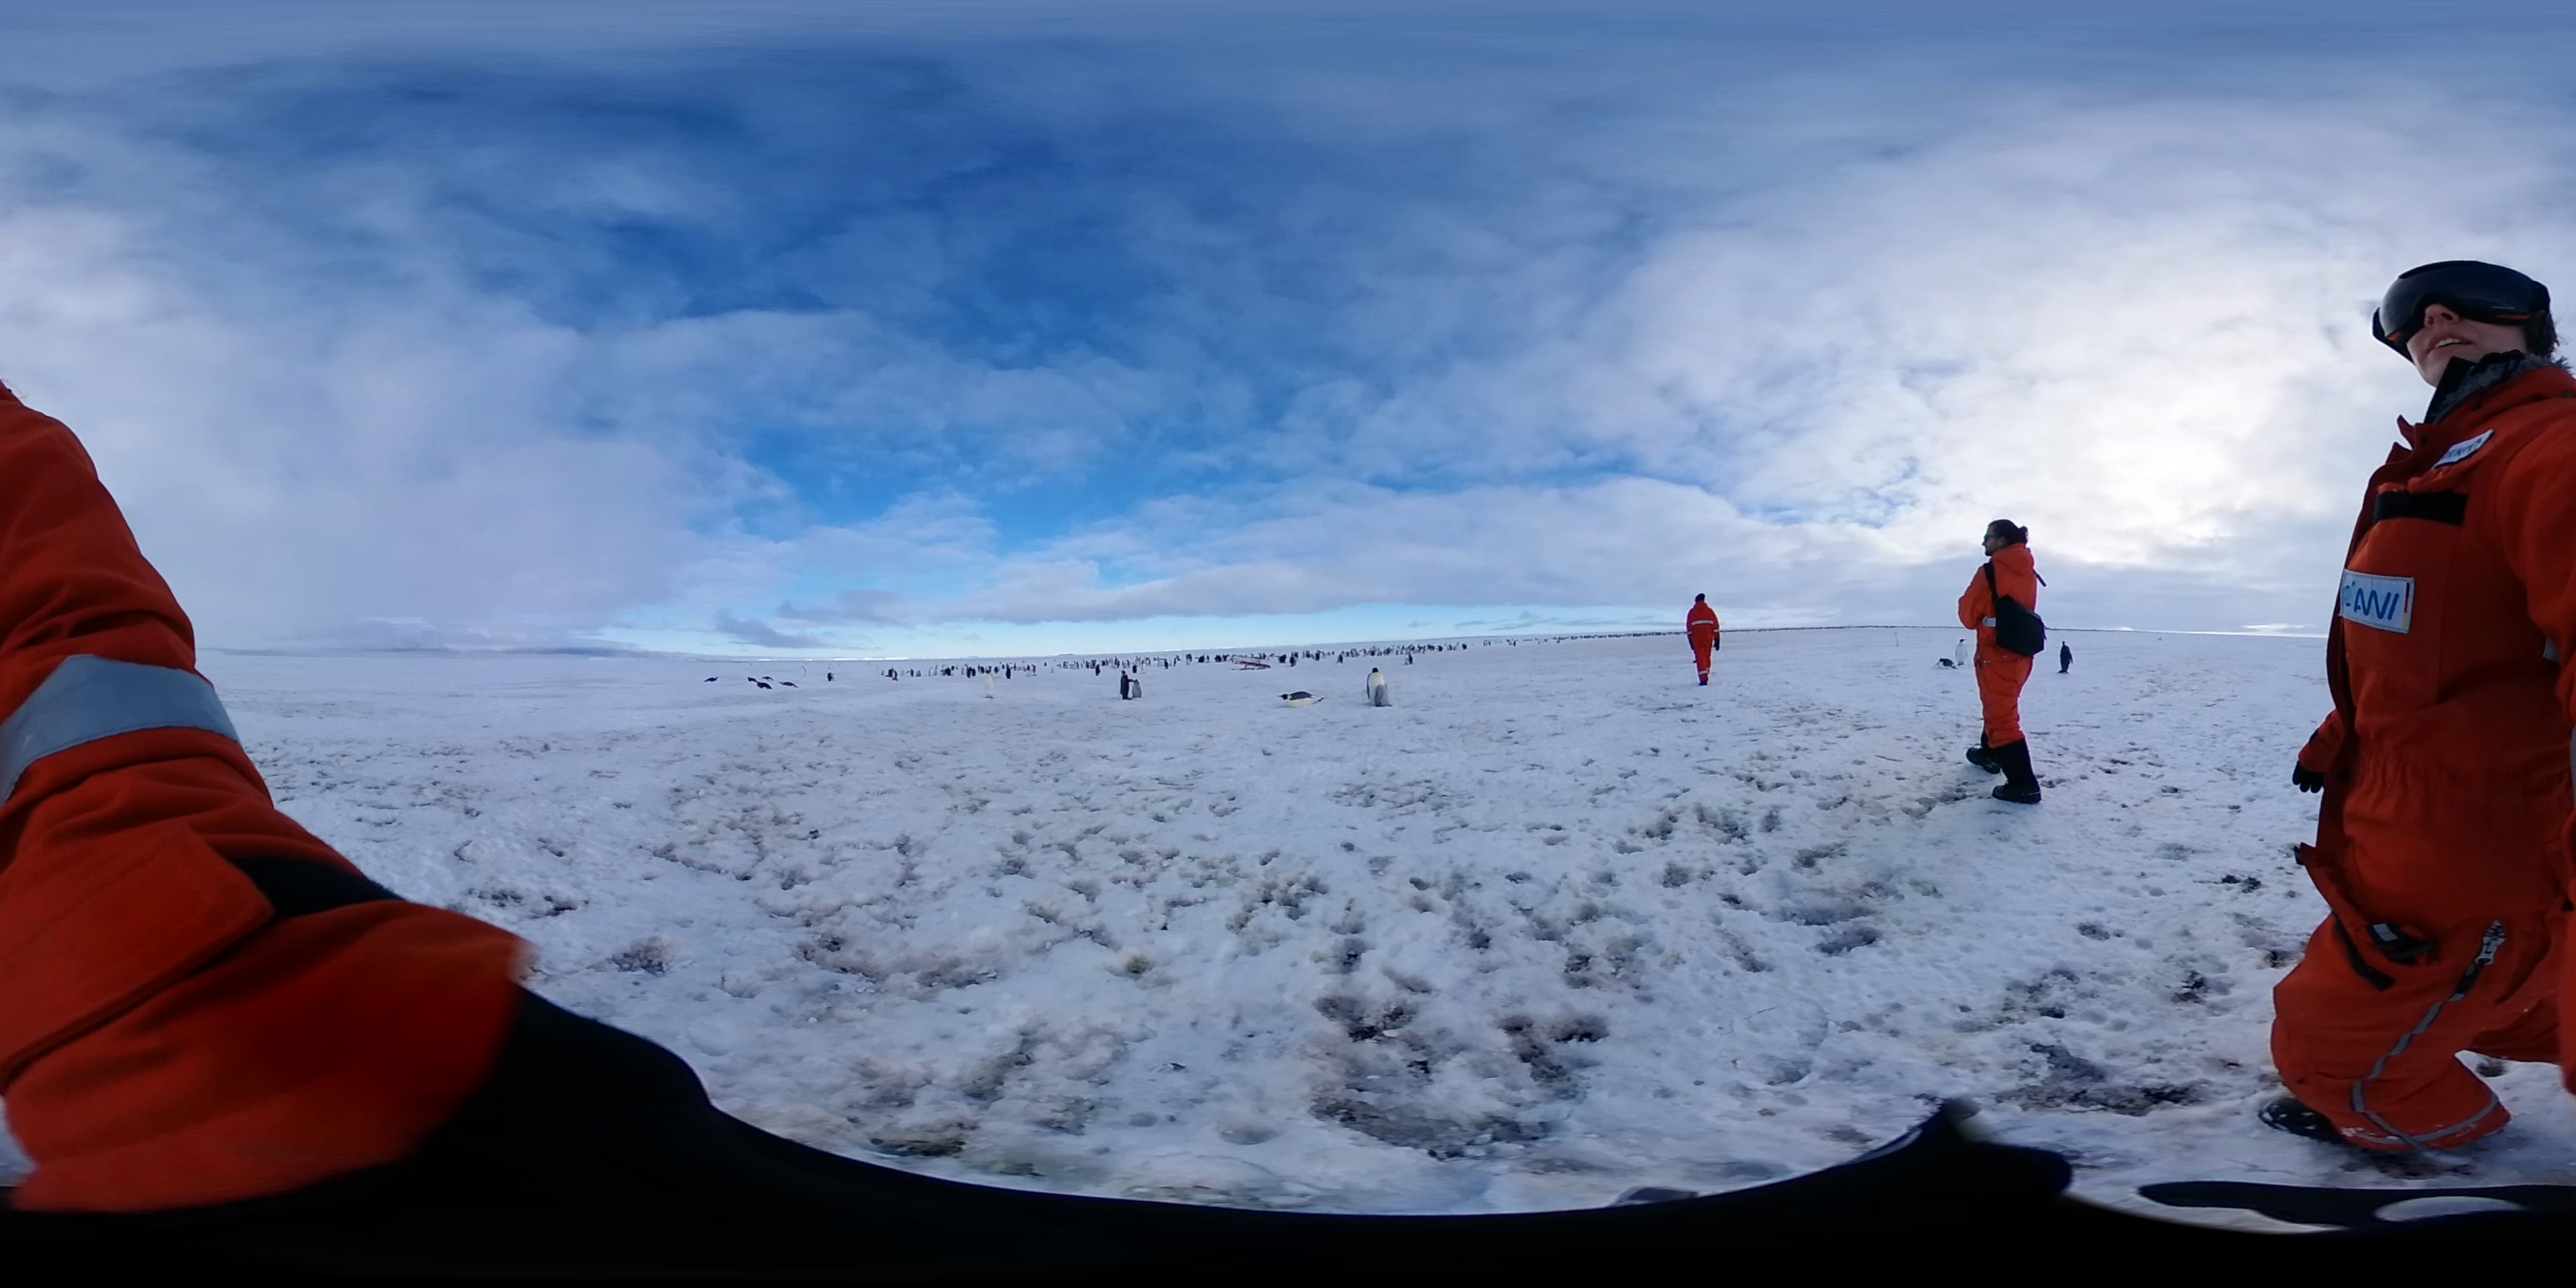adult_standing_penguin: (1364, 665, 1387, 700), (2057, 639, 2075, 677), (1117, 667, 1132, 703), (1952, 637, 1970, 667), (981, 669, 996, 703)
adult_toboggan_penguin: (1276, 690, 1327, 706), (1932, 655, 1960, 670), (777, 677, 798, 690), (754, 680, 774, 690)
juvenile_penguin: (1375, 682, 1395, 710), (1130, 677, 1142, 700)
researcher: (2261, 260, 2576, 1163), (1950, 514, 2052, 808), (1684, 588, 1728, 690)
